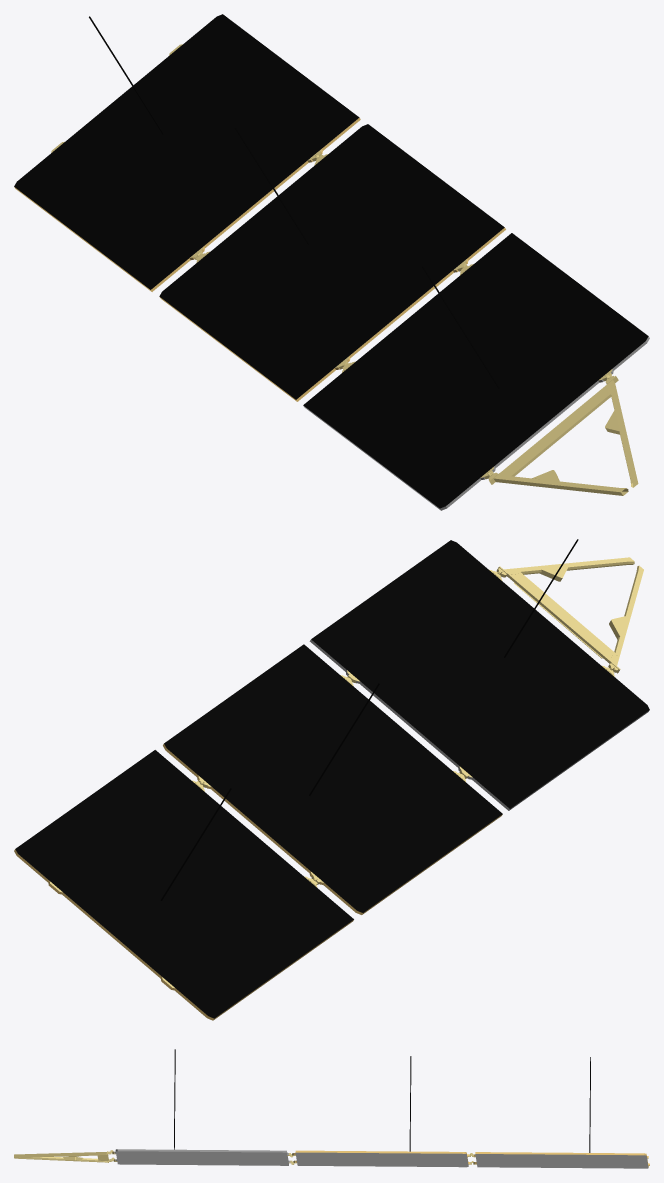
Rendered from left-wing-double.fbx.
The picture shows the model from 3 angles, top to bottom: view 1: azimuth 30°, elevation 25°; view 2: azimuth 150°, elevation 25°; view 3: azimuth 270°, elevation 25°; orthographic projection. The views are drawn at different scales.
Parts seen in each view (by area): view 1: entire_spacecraft; view 2: entire_spacecraft; view 3: entire_spacecraft.
Boxes of the visible parts, x1,y1,x2,y2 form: entire_spacecraft: (14,14,649,510); entire_spacecraft: (14,539,649,1020); entire_spacecraft: (14,1049,649,1168).
Bounding box in the file's own units: 29.84 × 26.68 × 124.
